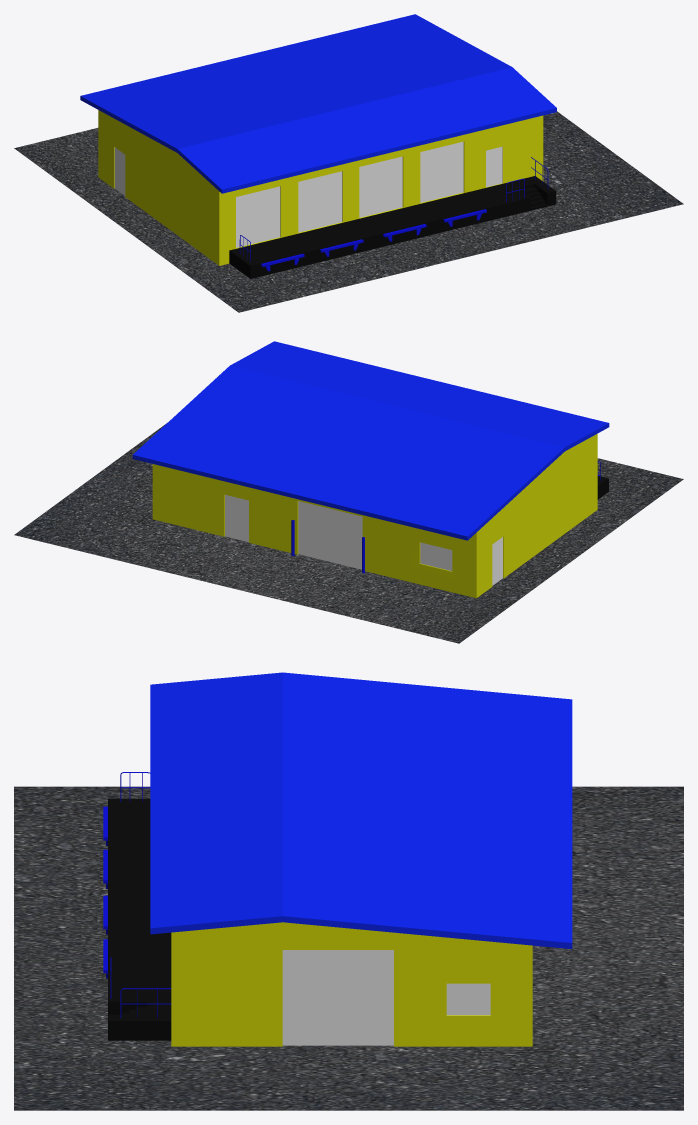
The model's file is warehouse.glb.
The picture shows the model from 3 angles, top to bottom: view 1: azimuth 30°, elevation 25°; view 2: azimuth 150°, elevation 25°; view 3: azimuth 270°, elevation 25°; orthographic projection. The views are drawn at different scales.
Visible parts, largest first — view 1: pCube6, pCube5, pPlane1, pCube20; view 2: pCube6, pPlane1, pCube5; view 3: pCube6, pPlane1, pCube5, pCube20.
Part boxes in pixels (bbox=[...]): pCube6: bbox=[80, 14, 556, 193]; pCube5: bbox=[98, 110, 543, 265]; pPlane1: bbox=[14, 111, 683, 312]; pCube20: bbox=[229, 176, 556, 278]; pCube6: bbox=[132, 341, 609, 540]; pPlane1: bbox=[14, 422, 683, 643]; pCube5: bbox=[152, 433, 597, 598]; pCube6: bbox=[150, 672, 572, 949]; pPlane1: bbox=[14, 786, 683, 1110]; pCube5: bbox=[171, 922, 532, 1046]; pCube20: bbox=[108, 798, 171, 1040].
Size of the model in its own units: 0.2355 by 0.046 by 0.2059.
6 materials, 1 textured.
